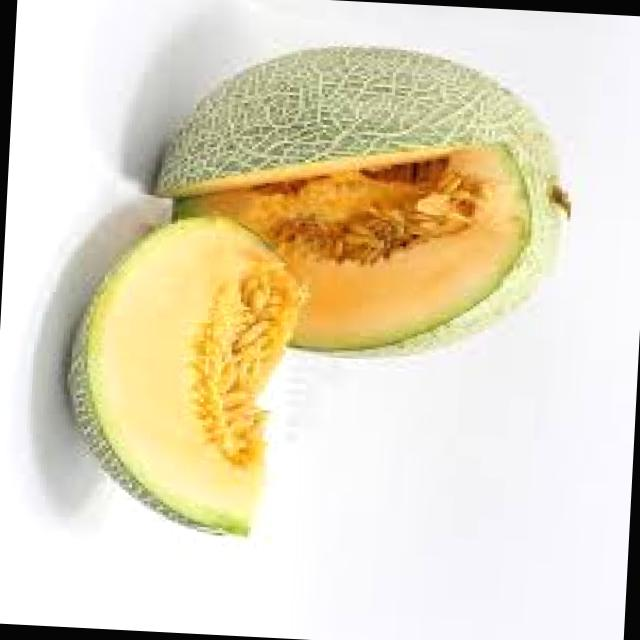cantaloupe: (142, 36, 578, 370), (54, 208, 310, 538)
